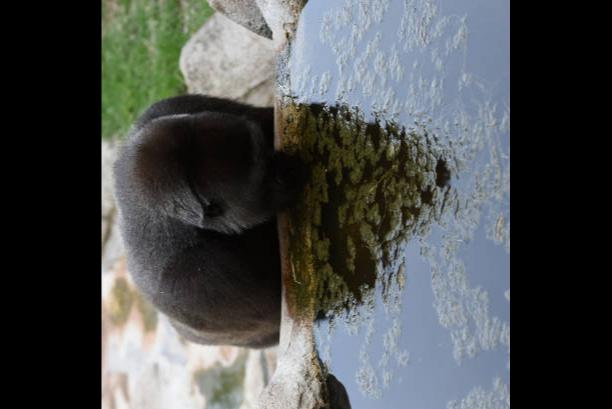gorille_Autres: (103, 68, 336, 352)
